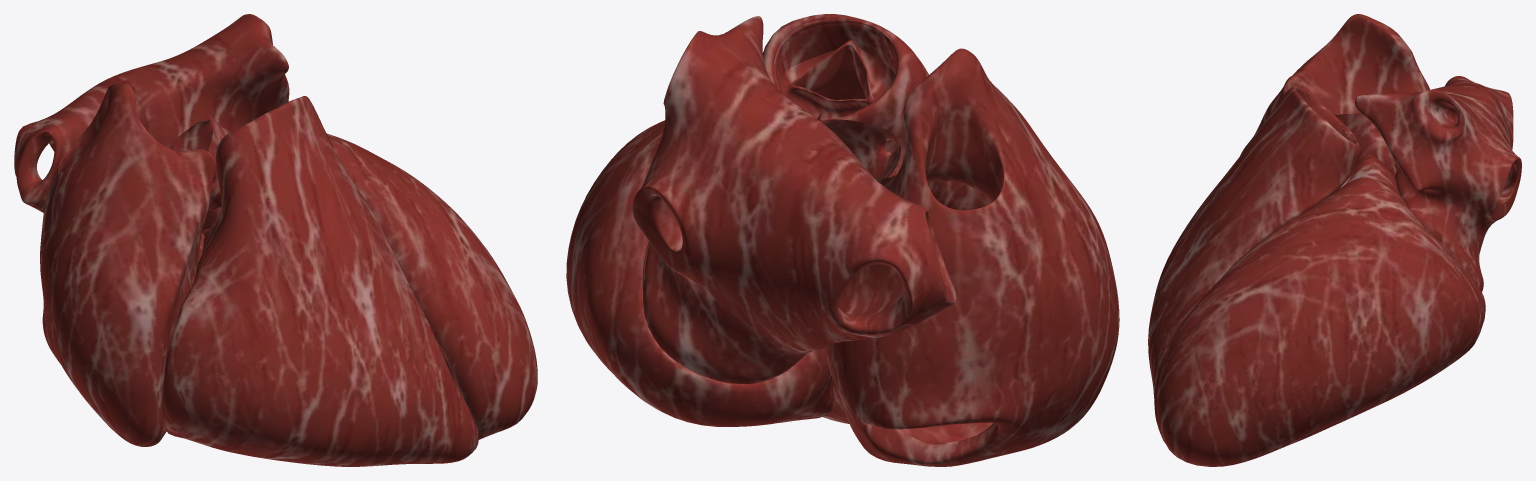
The model's file is heart-male-textured.opt.glb.
3 renders of one model, left to right at view 1: azimuth 30°, elevation 25°; view 2: azimuth 150°, elevation 25°; view 3: azimuth 270°, elevation 25°, orthographic. The views are drawn at different scales.
Parts seen in each view (by area): view 1: VH_M_heart_right_ventricle, VH_M_right_cardiac_atrium, VH_M_heart_left_ventricle, VH_M_left_cardiac_atrium, VH_M_aortic_valve; view 2: VH_M_left_cardiac_atrium, VH_M_right_cardiac_atrium, VH_M_heart_left_ventricle, VH_M_heart_right_ventricle, VH_M_pulmonary_valve, VH_M_aortic_valve; view 3: VH_M_heart_left_ventricle, VH_M_heart_right_ventricle, VH_M_left_cardiac_atrium, VH_M_right_cardiac_atrium, VH_M_aortic_valve.
Part boxes in pixels (x1=…): VH_M_heart_right_ventricle: x1=162, y1=96, x2=478, y2=466; VH_M_right_cardiac_atrium: x1=40, y1=82, x2=216, y2=446; VH_M_heart_left_ventricle: x1=202, y1=133, x2=537, y2=439; VH_M_left_cardiac_atrium: x1=14, y1=14, x2=289, y2=212; VH_M_aortic_valve: x1=170, y1=114, x2=229, y2=210; VH_M_left_cardiac_atrium: x1=632, y1=16, x2=956, y2=383; VH_M_right_cardiac_atrium: x1=826, y1=48, x2=1119, y2=466; VH_M_heart_left_ventricle: x1=566, y1=120, x2=833, y2=426; VH_M_heart_right_ventricle: x1=763, y1=14, x2=928, y2=423; VH_M_pulmonary_valve: x1=773, y1=19, x2=895, y2=119; VH_M_aortic_valve: x1=817, y1=112, x2=900, y2=188; VH_M_heart_left_ventricle: x1=1156, y1=153, x2=1485, y2=466; VH_M_heart_right_ventricle: x1=1148, y1=86, x2=1360, y2=442; VH_M_left_cardiac_atrium: x1=1355, y1=76, x2=1521, y2=291; VH_M_right_cardiac_atrium: x1=1240, y1=14, x2=1429, y2=155; VH_M_aortic_valve: x1=1334, y1=112, x2=1398, y2=169.
Bounding box in the file's own units: 0.1243 × 0.1054 × 0.1052.
Materials: 1 (1 with a texture image).
